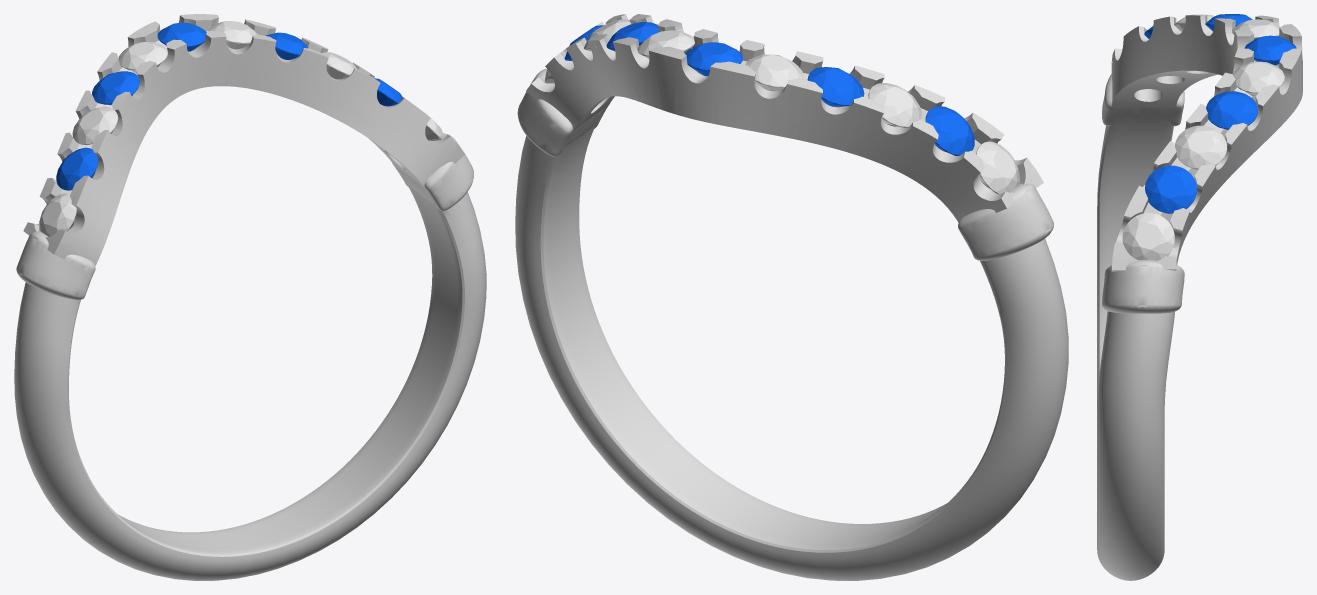
Rendered from DanielleV1alt_blender.glb.
3 renders of one model, left to right at view 1: azimuth 30°, elevation 25°; view 2: azimuth 150°, elevation 25°; view 3: azimuth 270°, elevation 25°, orthographic. The views are drawn at different scales.
Visible parts, largest first — view 1: Danielle 1 PT for 3d model, Danielle sapph wb for 3d model.004, Danielle dia for 3d model.005, Danielle dia for 3d model.004, Danielle sapph wb for 3d model.003, Danielle dia for 3d model.003, Danielle sapph wb for 3d model.002, Danielle dia for 3d model.002, Danielle sapph wb for 3d model.001; view 2: Danielle 1 PT for 3d model, Danielle sapph wb for 3d model.004, Danielle dia for 3d model.005, Danielle dia for 3d model.004, Danielle sapph wb for 3d model.003, Danielle dia for 3d model.003, Danielle sapph wb for 3d model.002, Danielle dia for 3d model.002, Danielle sapph wb for 3d model.001; view 3: Danielle 1 PT for 3d model, Danielle dia for 3d model, Danielle sapph wb for 3d model, Danielle dia for 3d model.001, Danielle sapph wb for 3d model.001, Danielle dia for 3d model.002, Danielle sapph wb for 3d model.002, Danielle dia for 3d model.003, Danielle sapph wb for 3d model.003.
Boxes of the visible parts, x1,y1,x2,y2 form: Danielle 1 PT for 3d model: (14,14,486,580); Danielle sapph wb for 3d model.004: (56,147,98,190); Danielle dia for 3d model.005: (39,193,76,236); Danielle dia for 3d model.004: (72,106,118,144); Danielle sapph wb for 3d model.003: (92,71,139,104); Danielle dia for 3d model.003: (118,42,167,71); Danielle sapph wb for 3d model.002: (157,22,206,51); Danielle dia for 3d model.002: (209,21,257,49); Danielle sapph wb for 3d model.001: (265,32,308,59); Danielle 1 PT for 3d model: (515,14,1068,580); Danielle sapph wb for 3d model.004: (925,106,974,155); Danielle dia for 3d model.005: (976,141,1019,194); Danielle dia for 3d model.004: (868,83,921,127); Danielle sapph wb for 3d model.003: (807,67,864,106); Danielle dia for 3d model.003: (745,54,803,91); Danielle sapph wb for 3d model.002: (685,42,742,76); Danielle dia for 3d model.002: (637,30,694,58); Danielle sapph wb for 3d model.001: (606,22,659,51); Danielle 1 PT for 3d model: (1097,15,1302,580); Danielle dia for 3d model: (1122,213,1174,260); Danielle sapph wb for 3d model: (1145,165,1196,213); Danielle dia for 3d model.001: (1175,125,1226,169); Danielle sapph wb for 3d model.001: (1206,91,1257,129); Danielle dia for 3d model.002: (1233,61,1284,95); Danielle sapph wb for 3d model.002: (1244,35,1296,65); Danielle dia for 3d model.003: (1232,19,1279,39); Danielle sapph wb for 3d model.003: (1205,14,1252,30).
Size of the model in its own units: 18.07 by 18.41 by 6.7.
